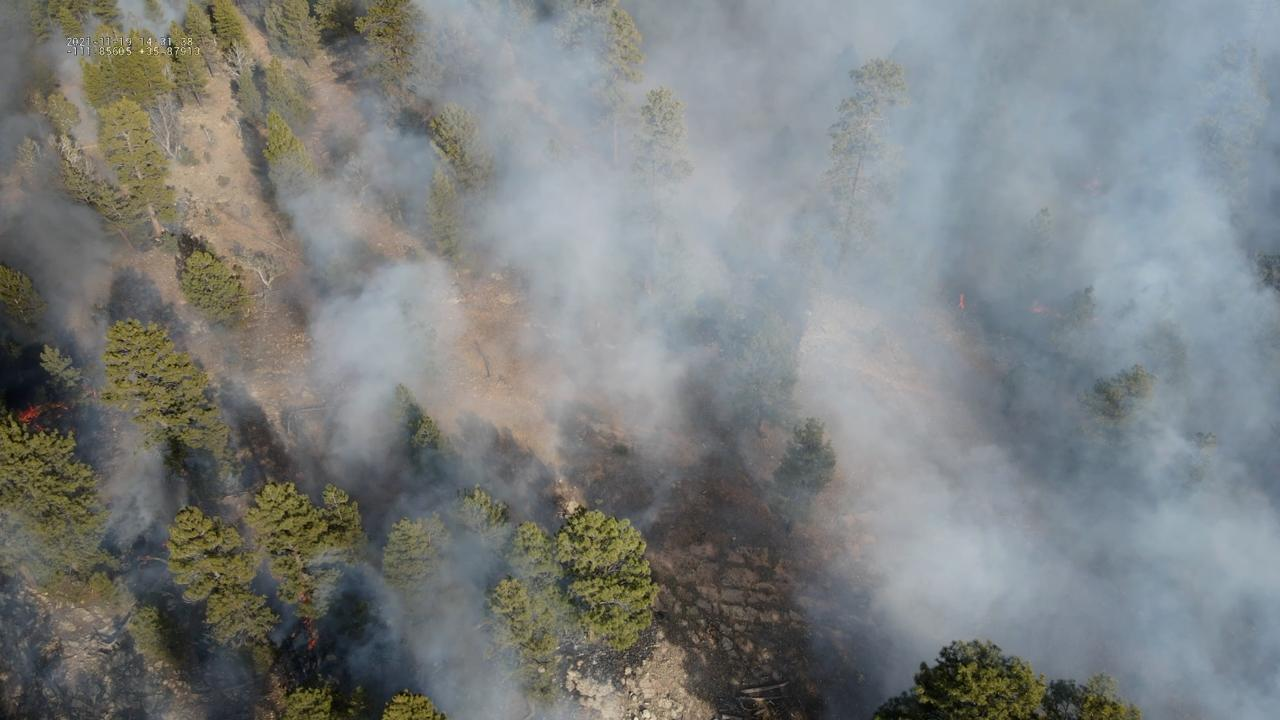fire: (14, 396, 71, 430), (296, 589, 319, 652), (955, 291, 967, 311), (1025, 306, 1047, 315)
smoke: (0, 0, 1280, 720)
